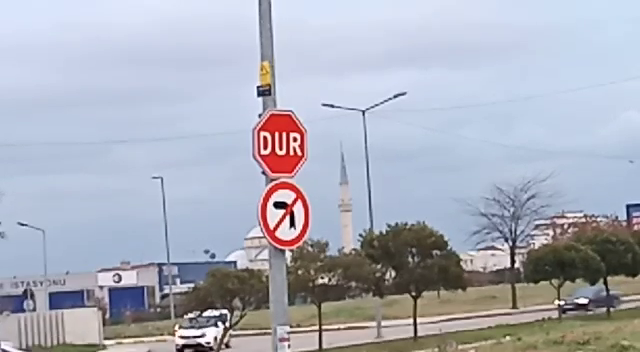no_left: (255, 178, 314, 253)
stop: (249, 107, 310, 181)
